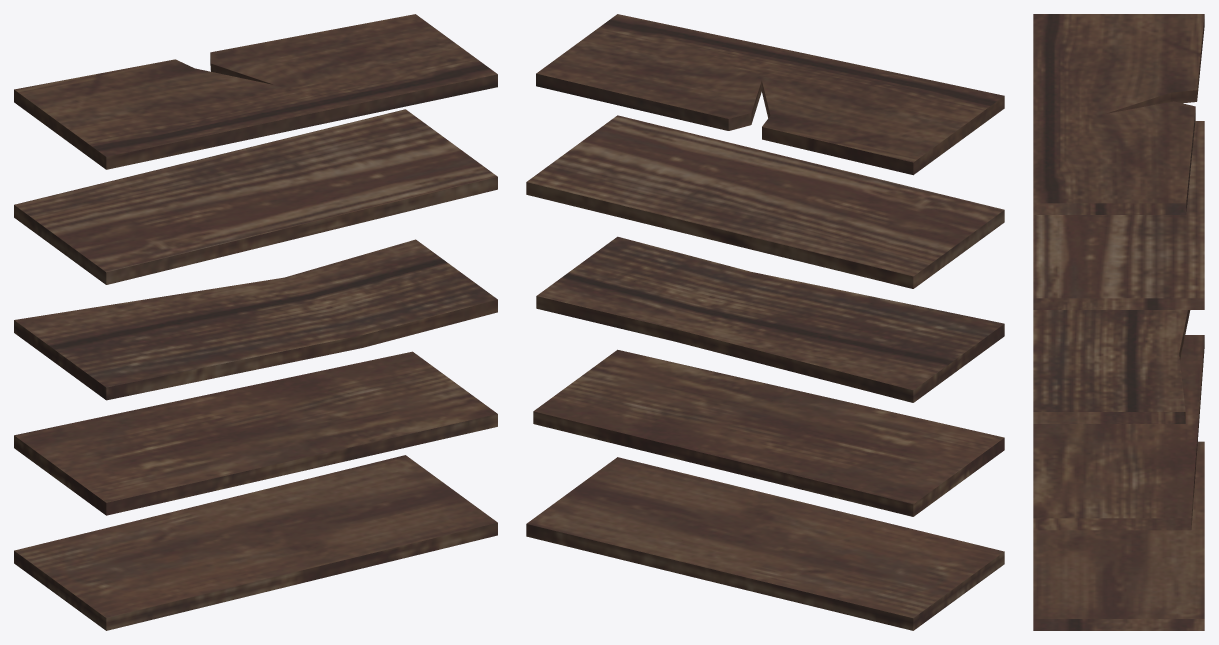
Rendered from Bibliothek_Bookshelf_Logs_R.fbx.
3 renders of one model, left to right at view 1: azimuth 30°, elevation 25°; view 2: azimuth 150°, elevation 25°; view 3: azimuth 270°, elevation 25°, orthographic. The views are drawn at different scales.
Visible parts, largest first — view 1: Bibliothek_Bookshelf_Logs_R; view 2: Bibliothek_Bookshelf_Logs_R; view 3: Bibliothek_Bookshelf_Logs_R.
Boxes of the visible parts, x1,y1,x2,y2 form: Bibliothek_Bookshelf_Logs_R: (14, 14, 497, 630); Bibliothek_Bookshelf_Logs_R: (526, 14, 1004, 630); Bibliothek_Bookshelf_Logs_R: (1033, 14, 1204, 630).
Bounding box in the file's own units: 160 × 185 × 65.33.
